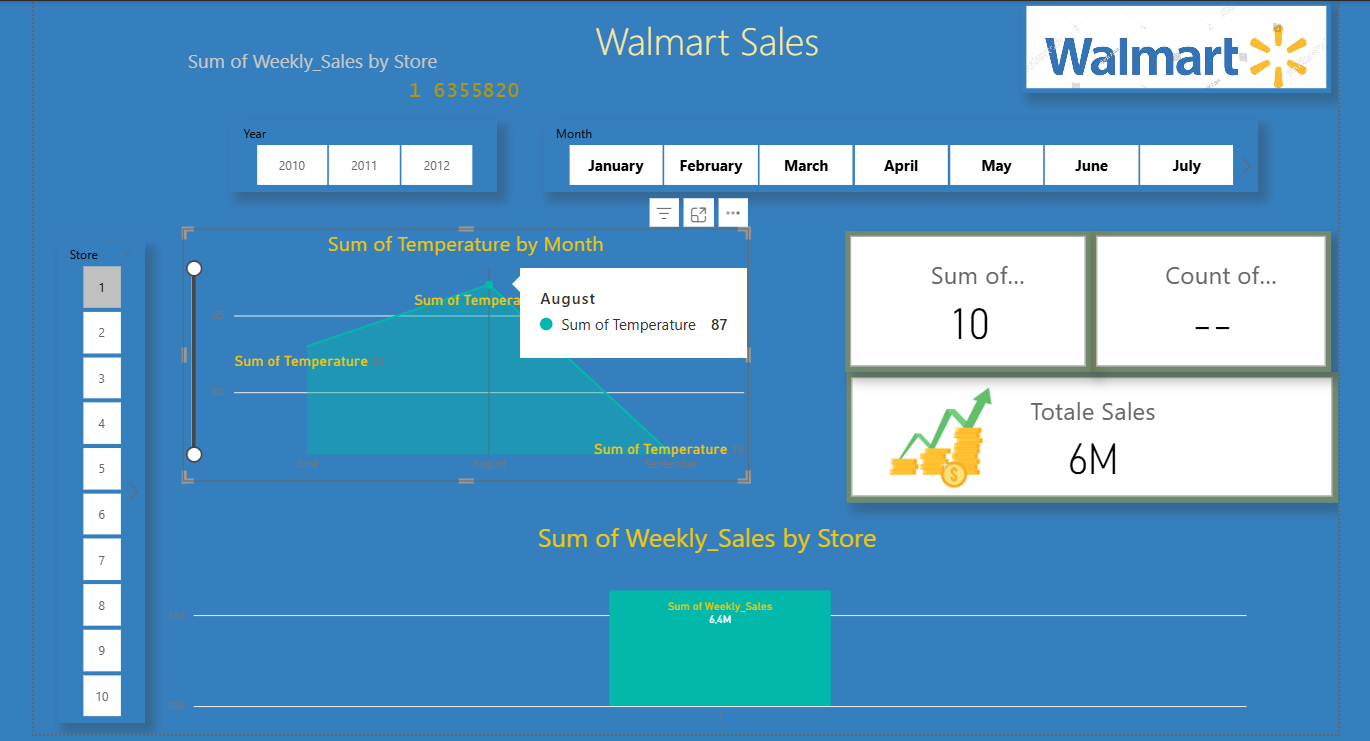

What the dashboard file says about the page in this screenshot:
{"tool":"powerbi","page":{"name":"Page 1","canvas":[1280,720],"ordinal":0},"visuals":[{"type":"cardVisual","fields":{"Data":["Dimention T.Totale Sales"]},"box":[797.6,364.4,482.2,127.6],"z":0},{"type":"slicer","fields":{"Values":["Dimention T.Store"]},"box":[22.1,235.6,87.1,473.6],"z":1000},{"type":"slicer","fields":{"Values":["Walmart_Sales.Date.Variation.Date Hierarchy.Year"]},"box":[192.6,116.6,261.4,71.2],"z":2000},{"type":"slicer","fields":{"Values":["Walmart_Sales.Date.Variation.Date Hierarchy.Month"]},"box":[481,128.8,701.8,71.2],"z":3000},{"type":"clusteredColumnChart","fields":{"Category":["Dimention T.Store"],"Y":["Sum(Walmart_Sales.Weekly_Sales)"]},"box":[126.4,509.2,1068.7,211],"z":4000},{"type":"cardVisual","fields":{"Data":["Sum(Walmart_Sales.Holiday_Flag)"]},"box":[796.3,225.8,241.7,138.7],"z":5000},{"type":"lineChart","fields":{"Y":["Sum(Walmart_Sales.Temperature)"],"Category":["Walmart_Sales.Date.Variation.Date Hierarchy.Month"]},"box":[146,223.3,555.8,249.1],"z":6000},{"type":"cardVisual","fields":{"Data":["CountNonNull(Walmart_Sales.Unemployment)"]},"box":[1038,225.8,235.6,138.7],"z":7000},{"type":"textbox","box":[499.4,8.6,322.7,72.4],"z":8000},{"type":"image","box":[969.3,0,304.3,90.8],"z":9000},{"type":"image","box":[804.9,370.6,170.6,116.6],"z":10000},{"type":"ScrollingTextVisual1448795304508","fields":{"Category":["Dimention T.Store"],"Measure Absolute":["Sum(Walmart_Sales.Weekly_Sales)"]},"box":[66.3,45.4,414.7,62.6],"z":11000}]}

Visuals, with their boxes on the page's 1280x720 design canvas (x1, y1, x2, y2). These are canvas units, not pixel positions in the 1370x741 screenshot, which may show the page scaled, cropped or inside an application window:
cardVisual - Dimention T.Totale Sales: <box>798,364,1280,492</box>
slicer - Dimention T.Store: <box>22,236,109,709</box>
slicer - Walmart_Sales.Date.Variation.Date Hierarchy.Year: <box>193,117,454,188</box>
slicer - Walmart_Sales.Date.Variation.Date Hierarchy.Month: <box>481,129,1183,200</box>
clusteredColumnChart - Dimention T.Store x Sum(Walmart_Sales.Weekly_Sales): <box>126,509,1195,720</box>
cardVisual - Sum(Walmart_Sales.Holiday_Flag): <box>796,226,1038,364</box>
lineChart - Sum(Walmart_Sales.Temperature) x Walmart_Sales.Date.Variation.Date Hierarchy.Month: <box>146,223,702,472</box>
cardVisual - CountNonNull(Walmart_Sales.Unemployment): <box>1038,226,1274,364</box>
textbox: <box>499,9,822,81</box>
image: <box>969,0,1274,91</box>
image: <box>805,371,976,487</box>
ScrollingTextVisual1448795304508 - Dimention T.Store x Sum(Walmart_Sales.Weekly_Sales): <box>66,45,481,108</box>
